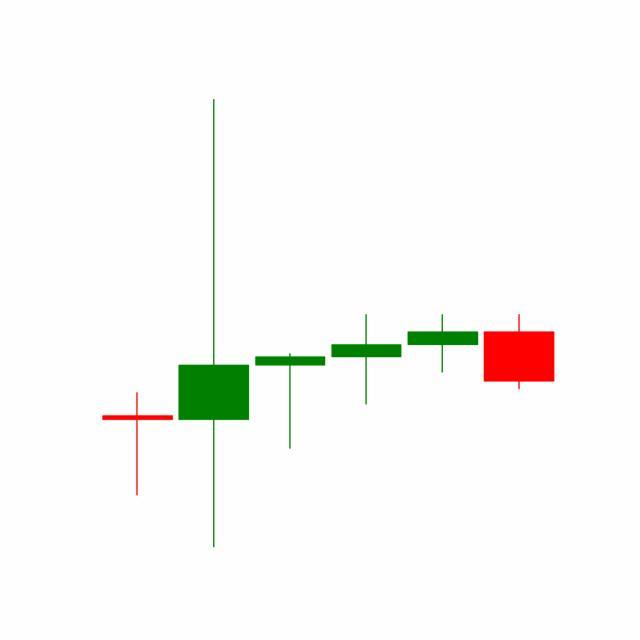Spinning Top: (404, 313, 482, 374)
